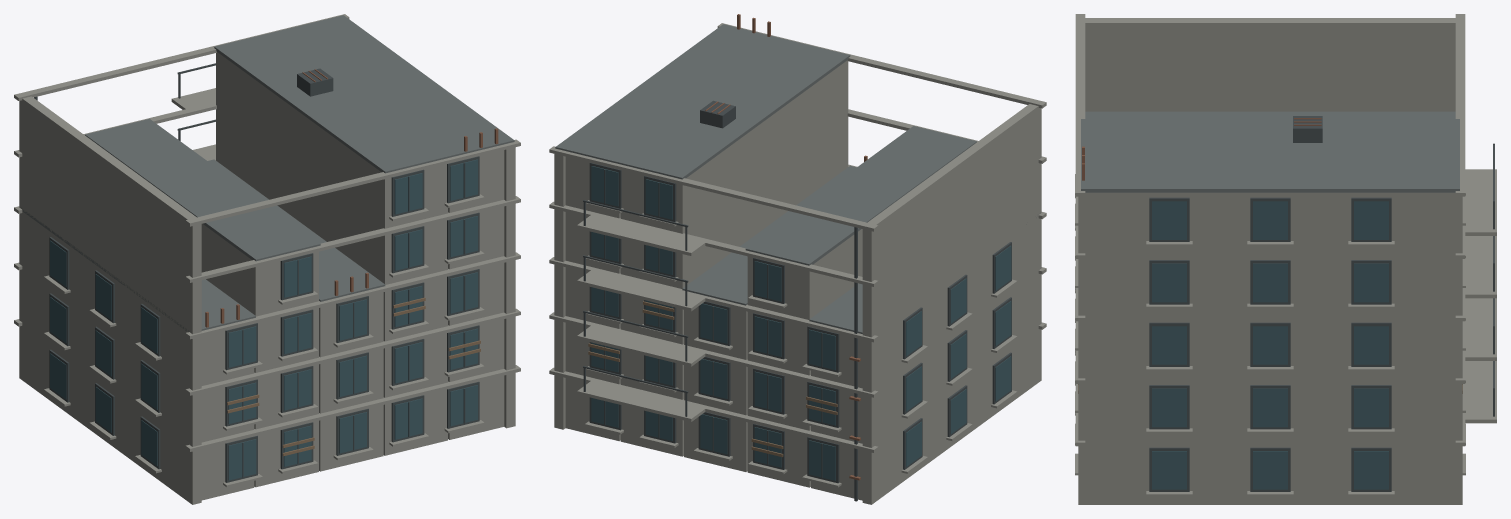
File: Ville_Batiment_02.fbx
3 views of the same model, side by side, from view 1: azimuth 30°, elevation 25°; view 2: azimuth 150°, elevation 25°; view 3: azimuth 270°, elevation 25° (orthographic). The views are drawn at different scales.
Parts seen in each view (by area): view 1: Ville_Batiment_02_concrete, Ville_Batiment_02_concrete_dark, Ville_Batiment_02_glass, Ville_Batiment_02_iron, Ville_Batiment_02_wood, Ville_Batiment_02_rust; view 2: Ville_Batiment_02_concrete, Ville_Batiment_02_concrete_dark, Ville_Batiment_02_glass, Ville_Batiment_02_iron, Ville_Batiment_02_wood; view 3: Ville_Batiment_02_concrete, Ville_Batiment_02_concrete_dark, Ville_Batiment_02_glass, Ville_Batiment_02_iron.
Part boxes in pixels (bbox=[...]): Ville_Batiment_02_concrete: bbox=[14, 14, 520, 504]; Ville_Batiment_02_concrete_dark: bbox=[21, 15, 514, 331]; Ville_Batiment_02_glass: bbox=[50, 159, 477, 480]; Ville_Batiment_02_iron: bbox=[34, 63, 479, 482]; Ville_Batiment_02_wood: bbox=[227, 297, 480, 456]; Ville_Batiment_02_rust: bbox=[205, 69, 498, 327]; Ville_Batiment_02_concrete: bbox=[549, 23, 1046, 504]; Ville_Batiment_02_concrete_dark: bbox=[555, 24, 1040, 333]; Ville_Batiment_02_glass: bbox=[591, 166, 1011, 480]; Ville_Batiment_02_iron: bbox=[583, 100, 1011, 501]; Ville_Batiment_02_wood: bbox=[588, 301, 837, 457]; Ville_Batiment_02_concrete: bbox=[1075, 14, 1496, 504]; Ville_Batiment_02_concrete_dark: bbox=[1081, 111, 1459, 192]; Ville_Batiment_02_glass: bbox=[1152, 201, 1388, 489]; Ville_Batiment_02_iron: bbox=[1149, 116, 1494, 491].
Bounding box in the file's own units: 43.56 × 37.2 × 42.85.
